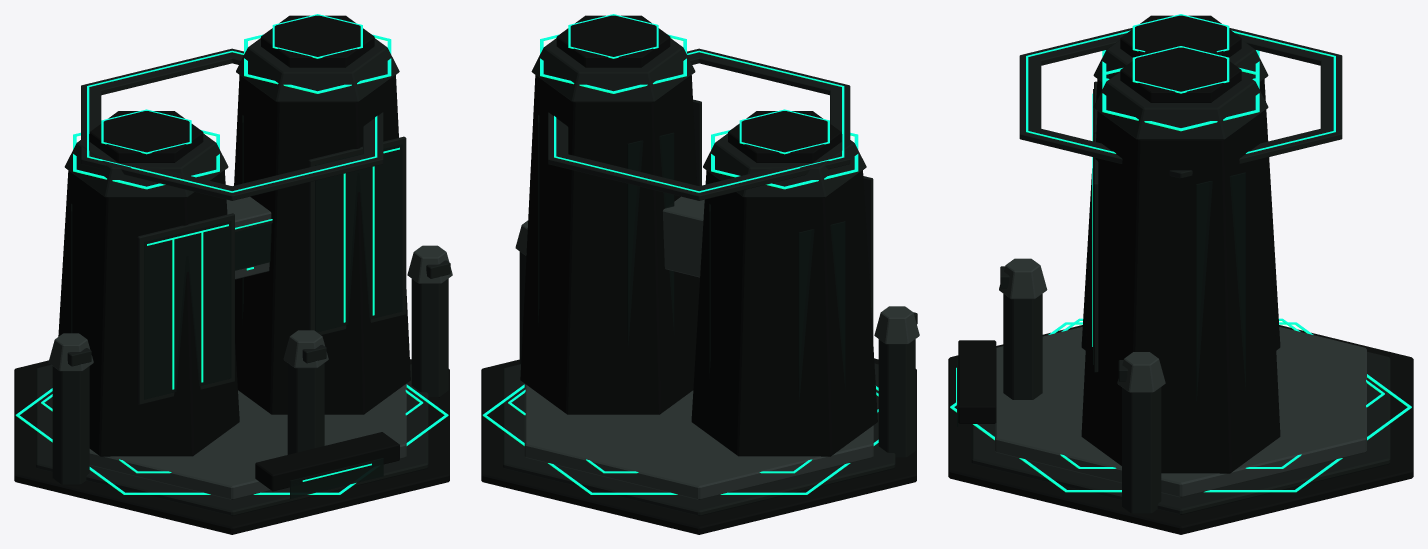
The model's file is vevi-lod1.glb.
The picture shows the model from 3 angles, left to right: view 1: azimuth 30°, elevation 25°; view 2: azimuth 150°, elevation 25°; view 3: azimuth 270°, elevation 25°; orthographic projection. The views are drawn at different scales.
Parts seen in each view (by area): view 1: VMH_EastTower_Body.001, VMH_WestTower_Body.001, VMH_WestTower_FrontScreen_Frame.001, VMH_EastTower_FrontScreen_Frame.001, VMH_WestTower_FrontScreen_SmokeGlass.001, VMH_EastTower_FrontScreen_SmokeGlass.001, VMH_Foundation.001, VMH_Podium.001, VMH_BroadcastCrownFrame.001, VMH_MediaPlaza.001, VMH_EastTower_CrownShoulder.001, VMH_EastTower_CrownCap.001 (+16 smaller); view 2: VMH_EastTower_Body.001, VMH_WestTower_Body.001, VMH_Podium.001, VMH_Foundation.001, VMH_MediaPlaza.001, VMH_BroadcastCrownFrame.001, VMH_EastTower_CrownShoulder.001, VMH_EastTower_CrownCap.001, VMH_WestTower_CrownCap.001, VMH_WestTower_CrownShoulder.001, VMH_PerimeterCameraPylon_1.001, VMH_WestTower_SideGlass_2.001 (+10 smaller); view 3: VMH_EastTower_Body.001, VMH_Podium.001, VMH_Foundation.001, VMH_MediaPlaza.001, VMH_BroadcastCrownFrame.001, VMH_EastTower_CrownShoulder.001, VMH_EastTower_CrownCap.001, VMH_PerimeterCameraPylon_2.001, VMH_PerimeterCameraPylon_3.001, VMH_EastTower_SideGlass_1.001, VMH_WestTower_CrownCap.001, VMH_EntryCanopy.001 (+9 smaller).
Boxes of the visible parts, x1,y1,x2,y2 form: VMH_EastTower_Body.001: (234, 75, 410, 414); VMH_WestTower_Body.001: (58, 170, 239, 456); VMH_WestTower_FrontScreen_Frame.001: (137, 213, 234, 404); VMH_EastTower_FrontScreen_Frame.001: (308, 136, 406, 335); VMH_WestTower_FrontScreen_SmokeGlass.001: (144, 220, 231, 399); VMH_EastTower_FrontScreen_SmokeGlass.001: (315, 143, 402, 332); VMH_Foundation.001: (14, 359, 449, 534); VMH_Podium.001: (89, 383, 406, 499); VMH_BroadcastCrownFrame.001: (81, 48, 383, 200); VMH_MediaPlaza.001: (36, 364, 428, 516); VMH_EastTower_CrownShoulder.001: (236, 38, 399, 102); VMH_EastTower_CrownCap.001: (261, 15, 374, 67); VMH_EastTower_Body.001: (520, 75, 699, 414); VMH_WestTower_Body.001: (691, 170, 877, 456); VMH_Podium.001: (524, 384, 873, 499); VMH_Foundation.001: (481, 358, 916, 534); VMH_MediaPlaza.001: (503, 363, 895, 516); VMH_BroadcastCrownFrame.001: (548, 48, 850, 200); VMH_EastTower_CrownShoulder.001: (531, 38, 695, 102); VMH_EastTower_CrownCap.001: (556, 15, 670, 67); VMH_WestTower_CrownCap.001: (728, 111, 841, 162); VMH_WestTower_CrownShoulder.001: (703, 133, 866, 197); VMH_PerimeterCameraPylon_1.001: (878, 339, 915, 457); VMH_WestTower_SideGlass_2.001: (798, 221, 845, 400); VMH_EastTower_Body.001: (1081, 111, 1280, 473); VMH_Podium.001: (995, 327, 1366, 497); VMH_Foundation.001: (948, 325, 1413, 534); VMH_MediaPlaza.001: (971, 351, 1390, 514); VMH_BroadcastCrownFrame.001: (1019, 28, 1342, 178); VMH_EastTower_CrownShoulder.001: (1093, 72, 1268, 139); VMH_EastTower_CrownCap.001: (1120, 47, 1241, 102); VMH_PerimeterCameraPylon_2.001: (1122, 387, 1161, 513); VMH_PerimeterCameraPylon_3.001: (1003, 294, 1042, 399); VMH_EastTower_SideGlass_1.001: (1196, 172, 1245, 401); VMH_WestTower_CrownCap.001: (1120, 15, 1241, 57); VMH_EntryCanopy.001: (958, 340, 996, 423).
Bounding box in the file's own units: 67.8 × 55.53 × 58.89.
